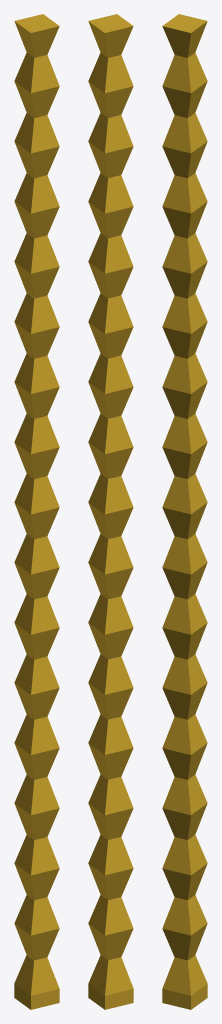
The model's file is endless.dae.
The picture shows the model from 3 angles, left to right: view 1: azimuth 30°, elevation 25°; view 2: azimuth 210°, elevation 25°; view 3: azimuth 330°, elevation 25°; orthographic projection.
Parts seen in each view (by area): view 1: Model; view 2: Model; view 3: Model.
Boxes of the visible parts, bbox=[...] form: Model: bbox=[14, 14, 59, 1009]; Model: bbox=[88, 14, 133, 1009]; Model: bbox=[162, 14, 207, 1009].
Bounding box in the file's own units: 91.62 × 91.77 × 2969.
